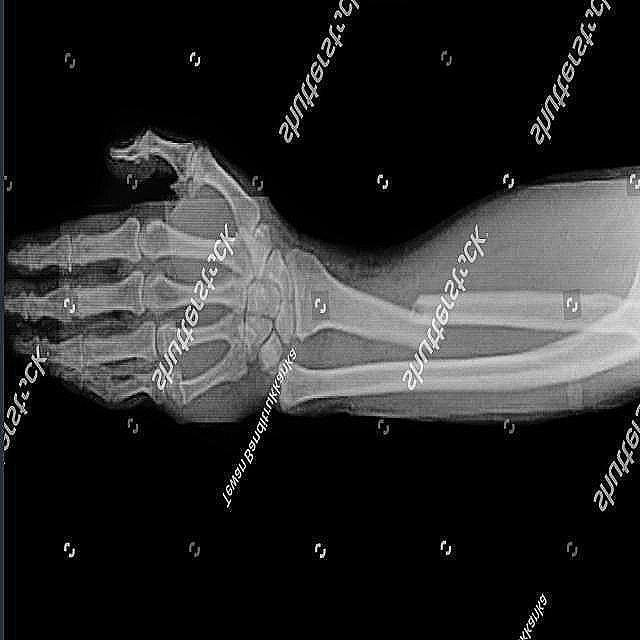bone: (402, 288, 452, 360)
